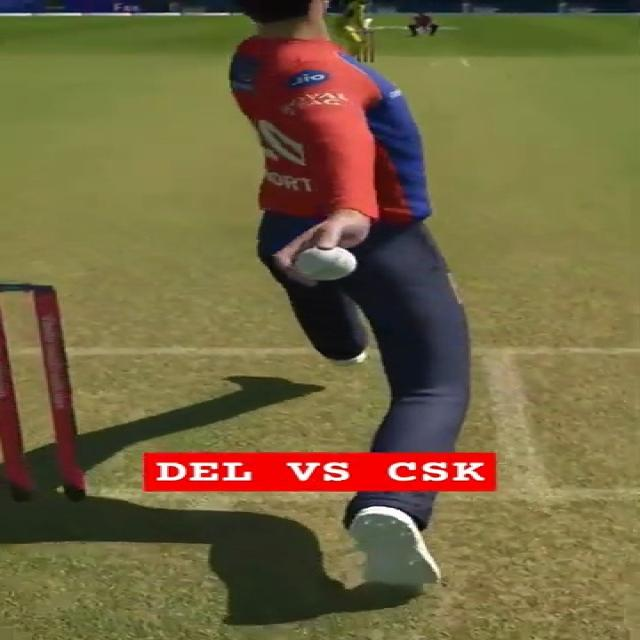ball: (295, 247, 356, 280)
